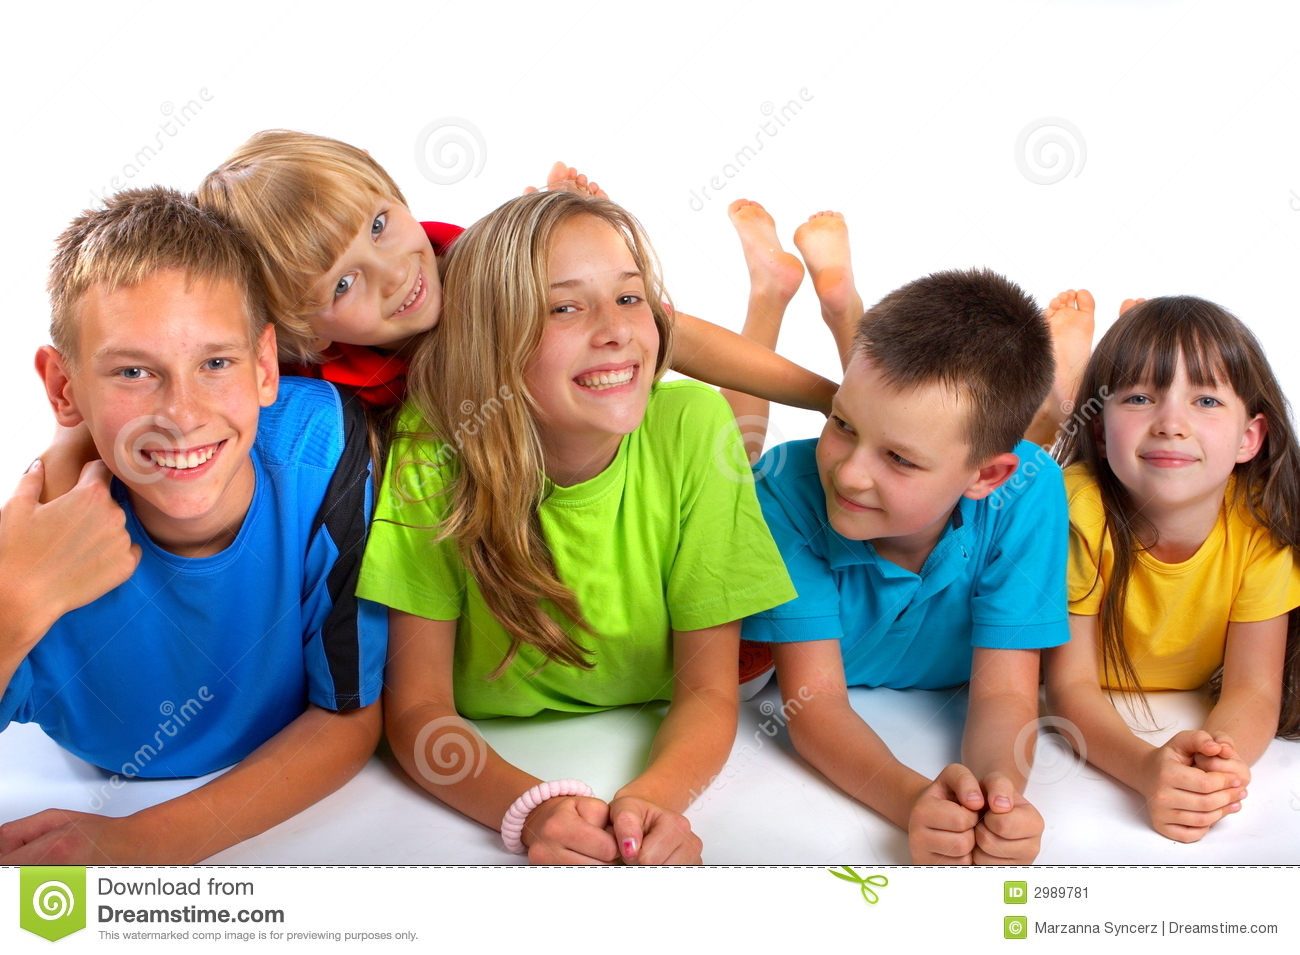human: (1, 156, 388, 872), (379, 176, 756, 872), (743, 240, 1070, 872), (1067, 299, 1300, 861), (187, 109, 533, 409)
